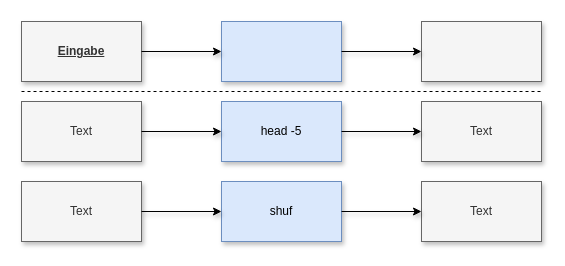
The diagram is 565 pixels wide and 266 high, and some of its shapes have lost their labels. Each missing label, with the centre of its shape:
Ausgabe: [482,52]
Verarbeitung: [282,52]
